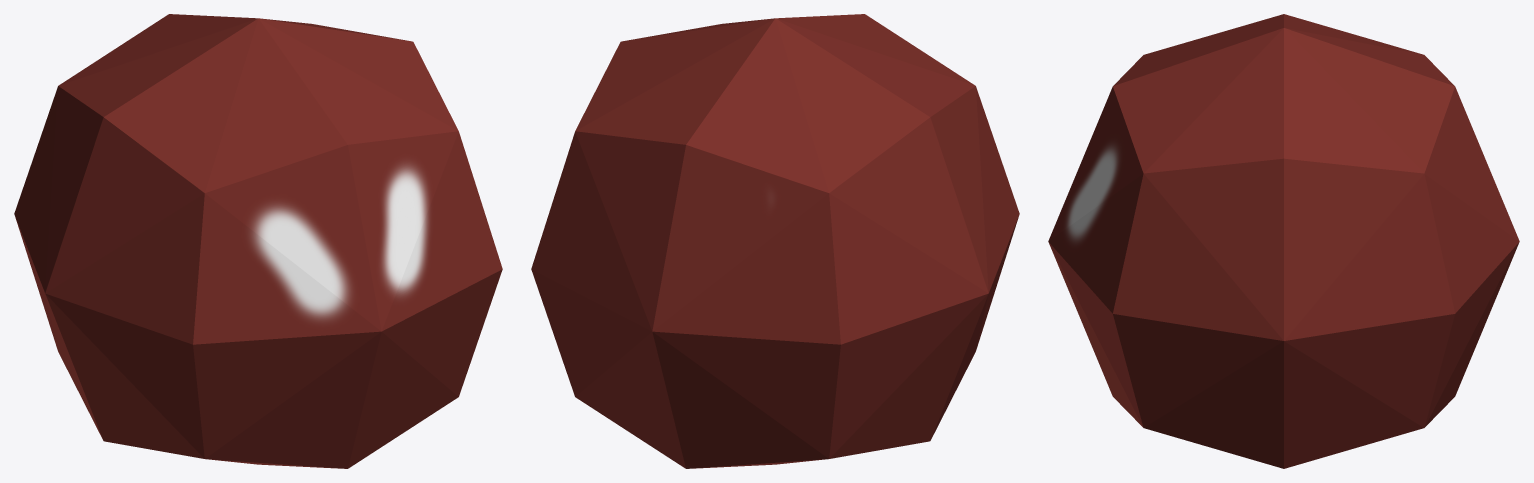
File: Enemy_Body.obj
3 renders of one model, left to right at view 1: azimuth 30°, elevation 25°; view 2: azimuth 150°, elevation 25°; view 3: azimuth 270°, elevation 25°, orthographic. The views are drawn at different scales.
Visible parts, largest first — view 1: Cube; view 2: Cube; view 3: Cube.
Boxes of the visible parts, x1,y1,x2,y2 form: Cube: (14,14,502,468); Cube: (531,14,1019,468); Cube: (1048,14,1519,468).
Size of the model in its own units: 1.68 by 1.68 by 1.68.
1 material, 1 textured.
